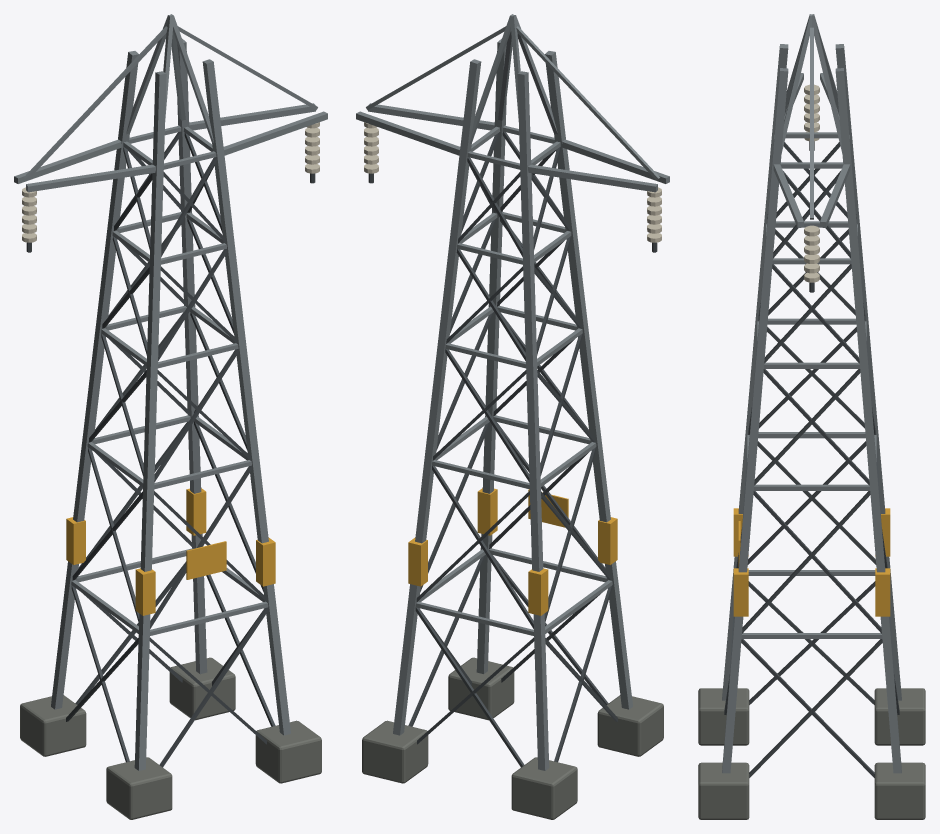
File: prop_pylon.glb
3 views of the same model, side by side, from view 1: azimuth 30°, elevation 25°; view 2: azimuth 150°, elevation 25°; view 3: azimuth 270°, elevation 25° (orthographic). The views are drawn at different scales.
Parts seen in each view (by area): view 1: Pylon_mesh; view 2: Pylon_mesh; view 3: Pylon_mesh.
Boxes of the visible parts, x1=… form: Pylon_mesh: x1=14, y1=14, x2=327, y2=819; Pylon_mesh: x1=356, y1=14, x2=669, y2=819; Pylon_mesh: x1=698, y1=14, x2=925, y2=819.
Size of the model in its own units: 3.81 by 9.02 by 2.45.
